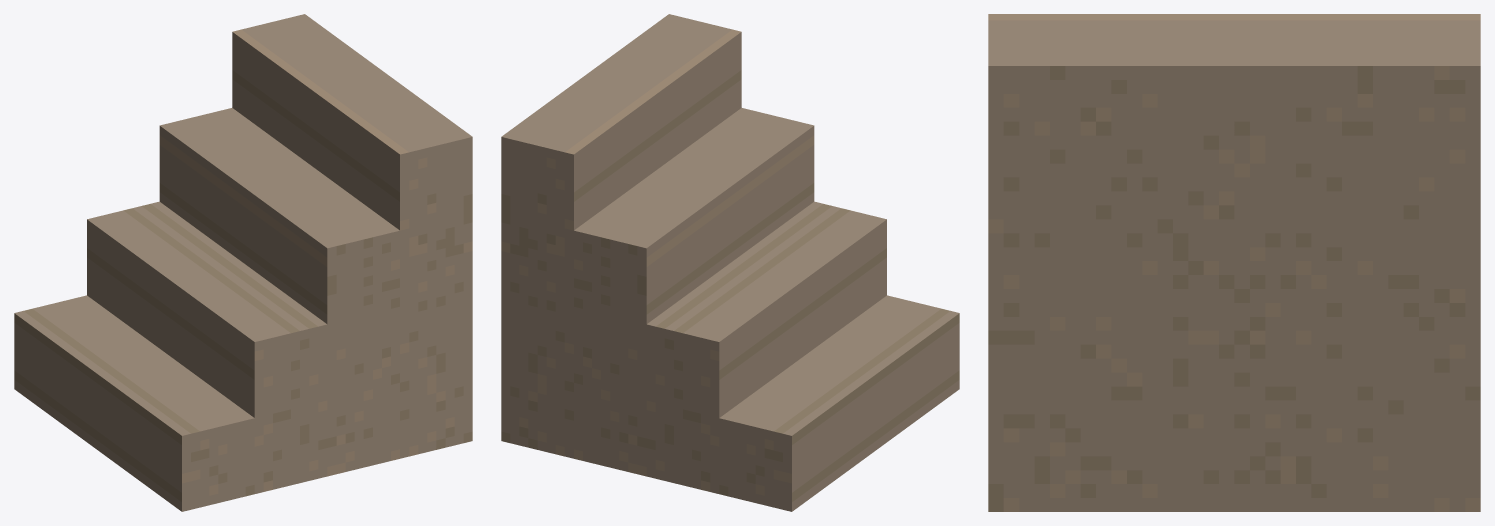
Rendered from wood.stairs-4.glb.
The picture shows the model from 3 angles, left to right: view 1: azimuth 30°, elevation 25°; view 2: azimuth 150°, elevation 25°; view 3: azimuth 270°, elevation 25°; orthographic projection. The views are drawn at different scales.
Size of the model in its own units: 1 by 1 by 1.
